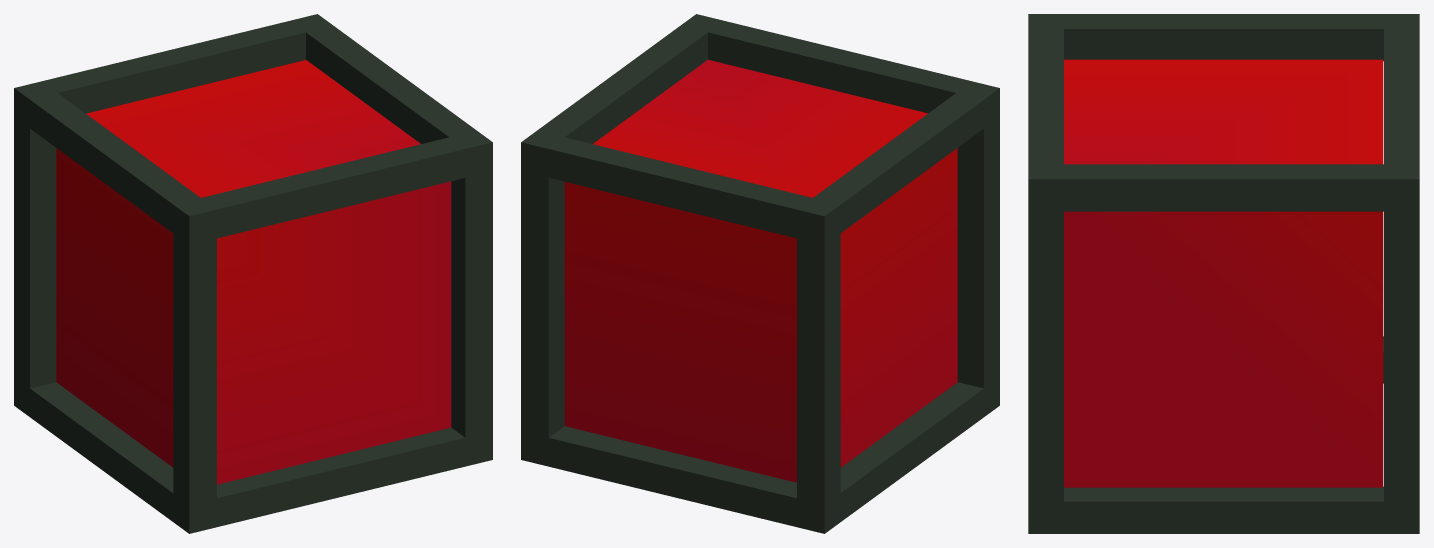
The model's file is red_core.gltf.
3 renders of one model, left to right at view 1: azimuth 30°, elevation 25°; view 2: azimuth 150°, elevation 25°; view 3: azimuth 270°, elevation 25°, orthographic. The views are drawn at different scales.
Parts seen in each view (by area): view 1: Cube; view 2: Cube; view 3: Cube.
Boxes of the visible parts, x1=… form: Cube: x1=14, y1=14, x2=492, y2=533; Cube: x1=521, y1=14, x2=999, y2=533; Cube: x1=1028, y1=14, x2=1419, y2=533.
Size of the model in its own units: 0.302 by 0.302 by 0.302.
